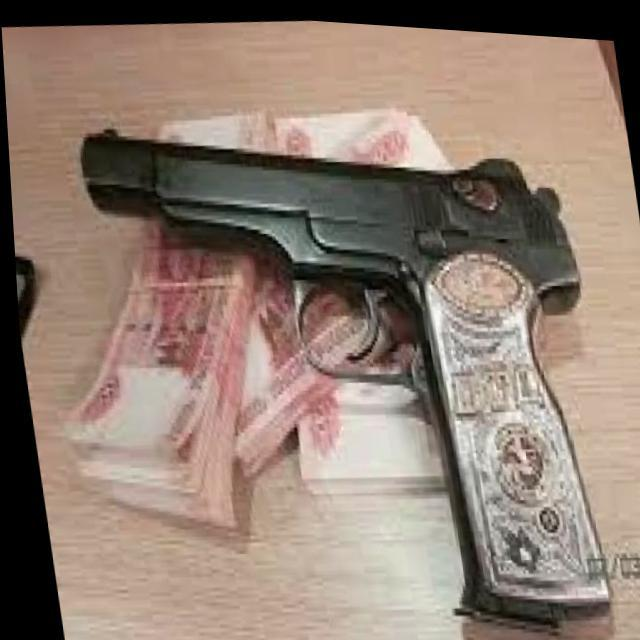weapon: (69, 79, 624, 640)
